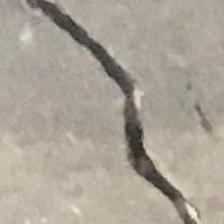Crack: (26, 0, 198, 224)
